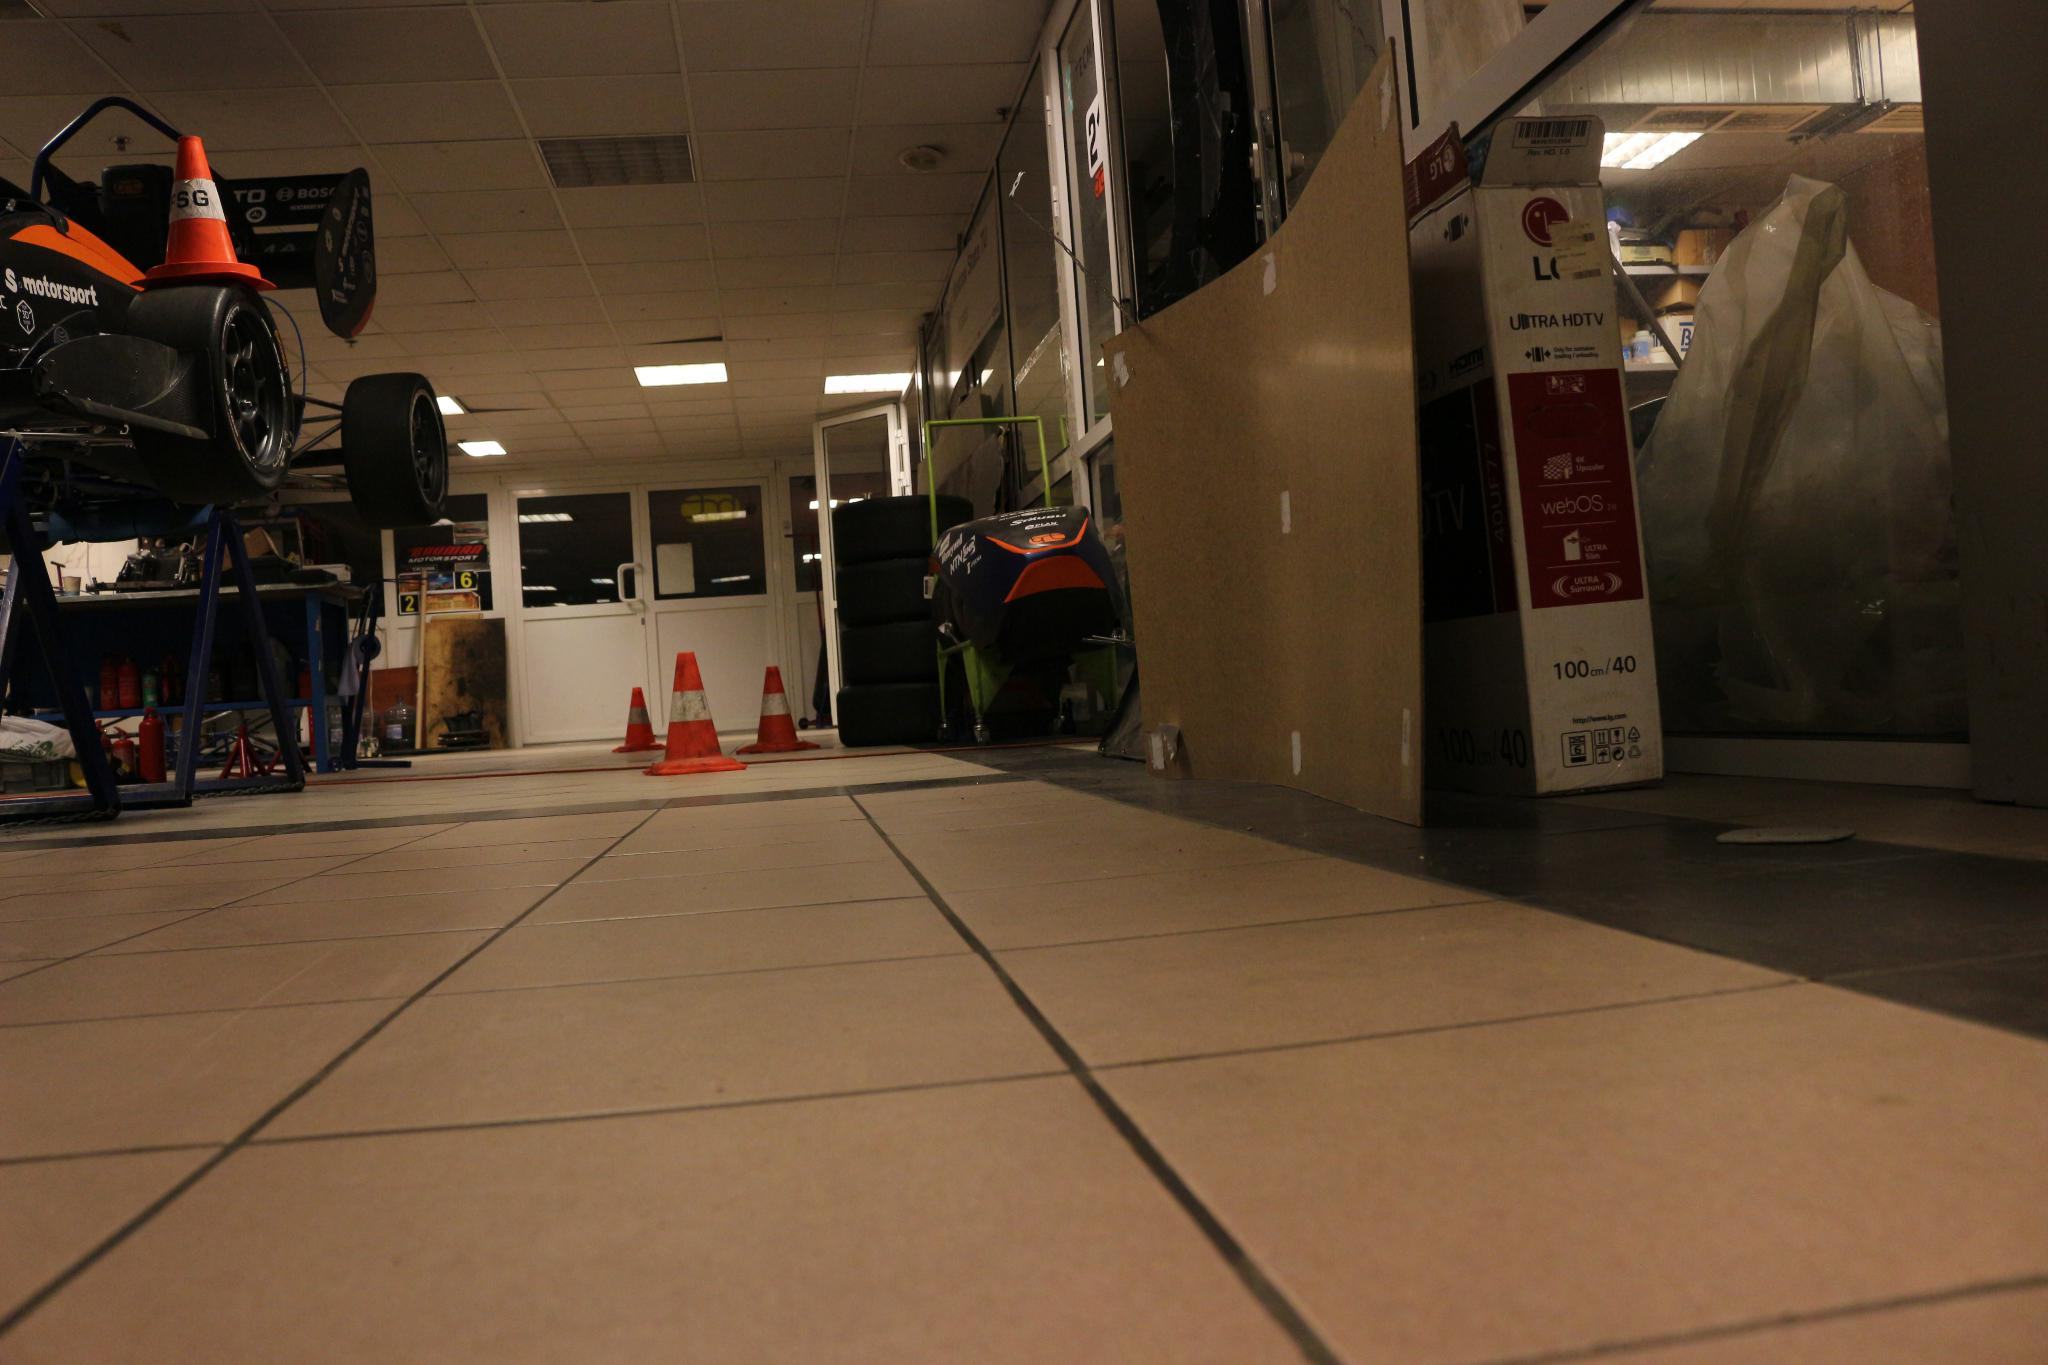Orange_Cone: (140, 133, 274, 289), (641, 651, 748, 774), (732, 663, 821, 754), (612, 682, 667, 750)
